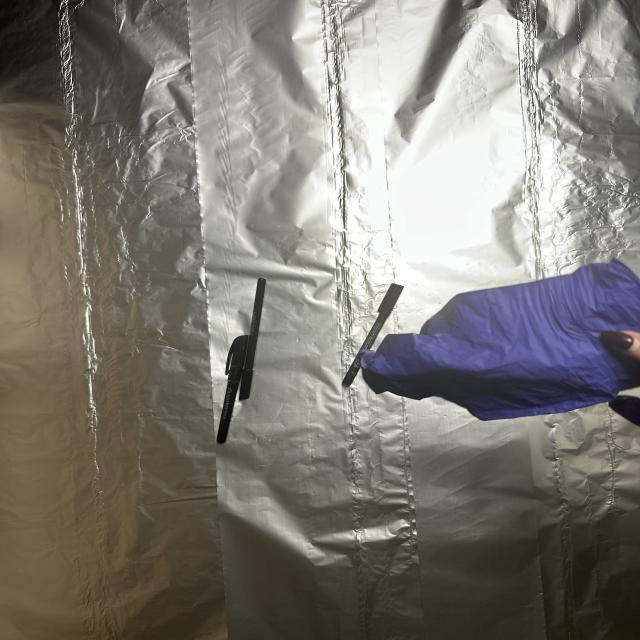glove_not_fitted: (353, 256, 640, 424)
